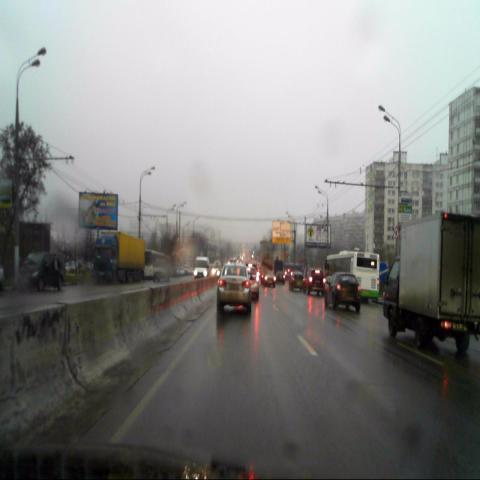4_1_2_2: (378, 262, 389, 284)
